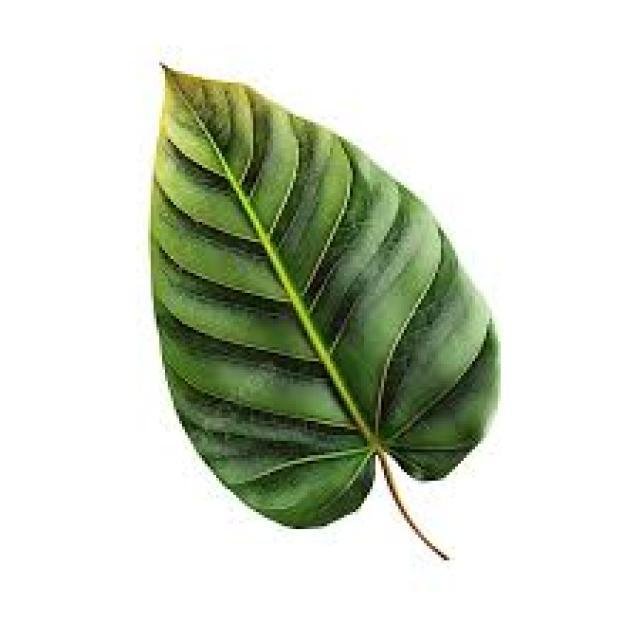leaf: (148, 61, 501, 560)
